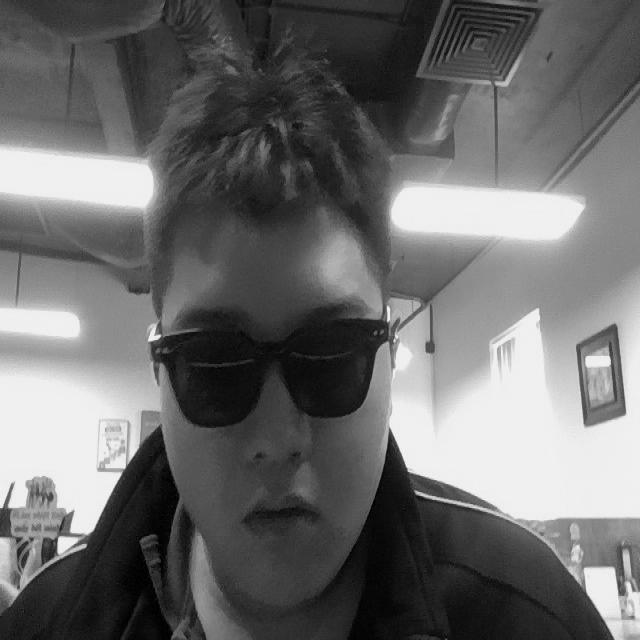fake: (141, 320, 394, 420)
real: (150, 62, 399, 603)
